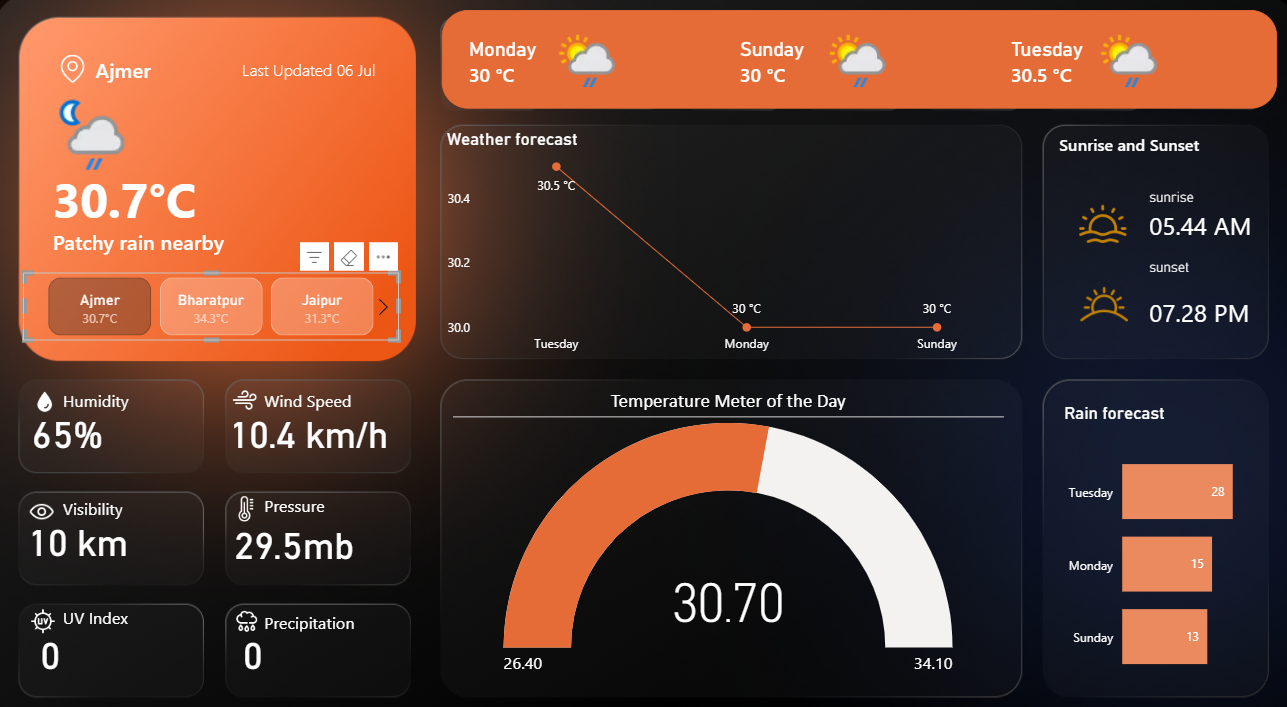

The dashboard page shown, as its layout file describes it:
{"tool":"powerbi","page":{"name":"Page 1","canvas":[1280,720],"ordinal":0},"visuals":[{"type":"advancedSlicerVisual","fields":{"Values":["Locations.location.name"]},"box":[29.4,272.4,369.3,67.5],"z":0},{"type":"shape","box":[58.7,157,199.3,84.6],"z":1000},{"type":"shape","box":[58.9,224.5,186.5,34.4],"z":2000},{"type":"shape","box":[100.6,54,157.1,36.8],"z":3000},{"type":"shape","box":[206.1,54,207.4,36.8],"z":4000},{"type":"image","box":[58.9,54,38,36.8],"z":5000},{"type":"cardVisual","fields":{"Data":["Min(Current.current.condition.icon)"]},"box":[35.6,81,116.6,100.6],"z":6000},{"type":"image","box":[29.4,487.1,36.8,39.3],"z":7000},{"type":"shape","box":[68.7,489.6,74.8,28.2],"z":8000},{"type":"shape","box":[266.3,384.1,87.1,27],"z":9000},{"type":"shape","box":[68.7,384.1,73.6,27],"z":10000},{"type":"shape","box":[266.3,487.1,68.7,28.2],"z":11000},{"type":"shape","box":[68.7,597.5,73.6,27],"z":12000},{"type":"shape","box":[266.3,604.9,90.8,19.6],"z":13000},{"type":"image","box":[35.6,384.1,30.7,30.7],"z":14000},{"type":"image","box":[228.2,380.4,38,34.4],"z":15000},{"type":"image","box":[29.4,597.5,39.3,34.4],"z":16000},{"type":"image","box":[229.4,487.1,36.8,34.4],"z":17000},{"type":"image","box":[231.9,597.5,34.4,34.4],"z":18000},{"type":"cardVisual","fields":{"Data":["_Measures.Humidity"]},"box":[21,380,131,93],"z":19000},{"type":"cardVisual","fields":{"Data":["_Measures.Wind_Speed"]},"box":[214.7,380.4,252.8,93.3],"z":20000},{"type":"cardVisual","fields":{"Data":["_Measures.Visibility"]},"box":[17.2,487.1,166.9,93.3],"z":21000},{"type":"cardVisual","fields":{"Data":["_Measures.pressure"]},"box":[219.6,489.6,193.9,93.3],"z":22000},{"type":"cardVisual","fields":{"Data":["Sum(Current.current.uv)"]},"box":[29.4,597.5,98.2,93.3],"z":23000},{"type":"cardVisual","fields":{"Data":["Sum(Current.current.precip_in)"]},"box":[228.2,597.5,98.2,93.3],"z":24000},{"type":"advancedSlicerVisual","fields":{"Values":["Forecast_Day.Day_Name"]},"box":[440.5,14.7,819.6,96.9],"z":25000},{"type":"lineChart","title":"Weather forecast","fields":{"Y":["Sum(Forecast_Day.forecast.forecastday.day.avgtemp_c)"],"Category":["Forecast_Day.Day_Name"]},"box":[440.3,131,566.1,229.3],"z":26000},{"type":"shape","box":[1047,131,150.7,28.8],"z":27000},{"type":"shape","box":[1134.8,249,99.6,35.4],"z":28000},{"type":"shape","box":[1134.8,284.4,124.5,55],"z":29000},{"type":"shape","box":[1134.8,180.8,99.6,35.4],"z":30000},{"type":"shape","box":[1134.8,199.2,125.8,55],"z":31000},{"type":"image","box":[1050.9,267.3,78.6,72.1],"z":32000},{"type":"image","box":[1061.4,195.3,56.3,59],"z":33000},{"type":"clusteredBarChart","title":"Rain forecast","fields":{"Y":["Current.Left_value_Rain"],"Category":["Forecast_Day.Day_Name"]},"box":[1046.9,399.9,199.3,293.5],"z":34000},{"type":"gauge","title":"Temperature Meter of the Day","fields":{"Y":["Sum(Current.current.temp_c)"],"MinValue":["_Measures.Min_temp"],"MaxValue":["_Measures.Max_temp"]},"box":[451.8,386.3,540.5,289.4],"z":34001}]}

Visuals, with their boxes in screenshot pixels (x1, y1, x2, y2), scaled from the page's 1280x720 canvas onto the 1287x707 screenshot:
advancedSlicerVisual - Locations.location.name: box=[30, 267, 401, 334]
shape: box=[59, 154, 259, 237]
shape: box=[59, 220, 247, 254]
shape: box=[101, 53, 259, 89]
shape: box=[207, 53, 416, 89]
image: box=[59, 53, 97, 89]
cardVisual - Min(Current.current.condition.icon): box=[36, 80, 153, 178]
image: box=[30, 478, 67, 517]
shape: box=[69, 481, 144, 508]
shape: box=[268, 377, 355, 404]
shape: box=[69, 377, 143, 404]
shape: box=[268, 478, 337, 506]
shape: box=[69, 587, 143, 613]
shape: box=[268, 594, 359, 613]
image: box=[36, 377, 67, 407]
image: box=[229, 374, 268, 407]
image: box=[30, 587, 69, 620]
image: box=[231, 478, 268, 512]
image: box=[233, 587, 268, 620]
cardVisual - _Measures.Humidity: box=[21, 373, 153, 464]
cardVisual - _Measures.Wind_Speed: box=[216, 374, 470, 465]
cardVisual - _Measures.Visibility: box=[17, 478, 185, 570]
cardVisual - _Measures.pressure: box=[221, 481, 416, 572]
cardVisual - Sum(Current.current.uv): box=[30, 587, 128, 678]
cardVisual - Sum(Current.current.precip_in): box=[229, 587, 328, 678]
advancedSlicerVisual - Forecast_Day.Day_Name: box=[443, 14, 1267, 110]
"Weather forecast" lineChart: box=[443, 129, 1012, 354]
shape: box=[1053, 129, 1204, 157]
shape: box=[1141, 245, 1241, 279]
shape: box=[1141, 279, 1266, 333]
shape: box=[1141, 178, 1241, 212]
shape: box=[1141, 196, 1267, 250]
image: box=[1057, 262, 1136, 333]
image: box=[1067, 192, 1124, 250]
"Rain forecast" clusteredBarChart: box=[1053, 393, 1253, 681]
"Temperature Meter of the Day" gauge: box=[454, 379, 998, 663]
